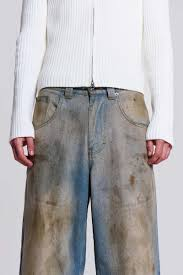earth: (26, 204, 64, 241), (113, 188, 124, 244), (132, 94, 143, 116), (36, 103, 45, 116), (128, 175, 135, 188)
